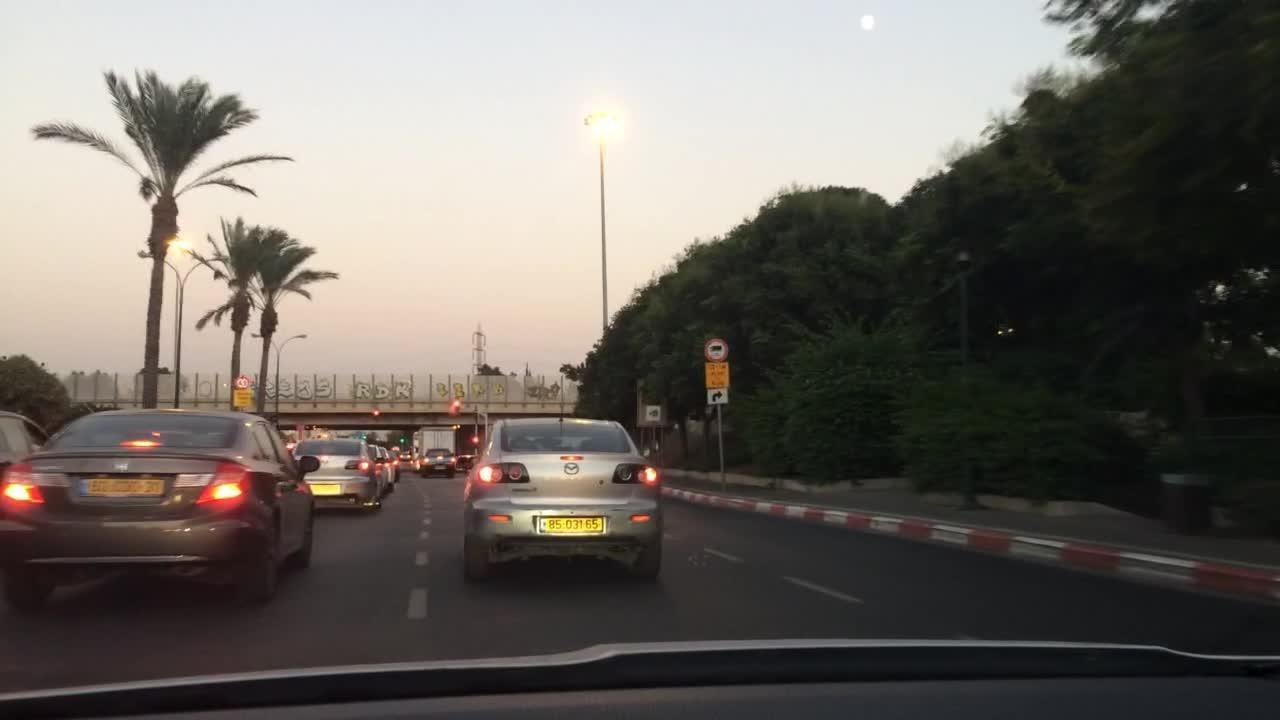Mazda: (564, 461, 581, 476)
